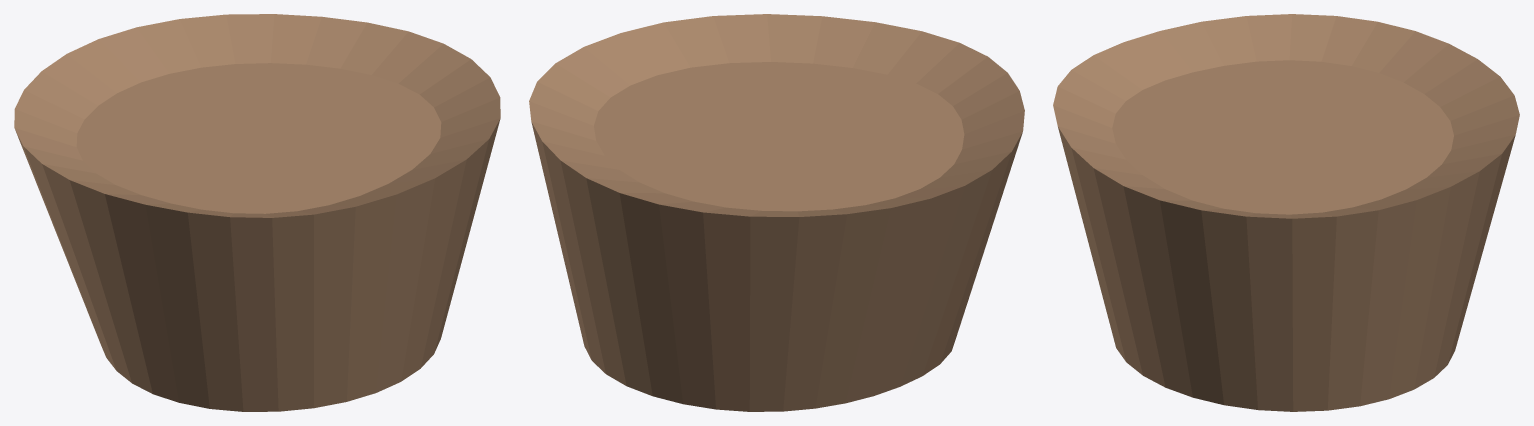
File: palmtree.fbx
3 views of the same model, side by side, from view 1: azimuth 30°, elevation 25°; view 2: azimuth 150°, elevation 25°; view 3: azimuth 270°, elevation 25° (orthographic). The views are drawn at different scales.
Visible parts, largest first — view 1: Cylinder; view 2: Cylinder; view 3: Cylinder.
Boxes of the visible parts, box(x1,y1,x2,y2) form: Cylinder: box(14, 14, 500, 411); Cylinder: box(529, 14, 1024, 411); Cylinder: box(1053, 14, 1519, 411).
Bounding box in the file's own units: 202 × 100 × 194.
